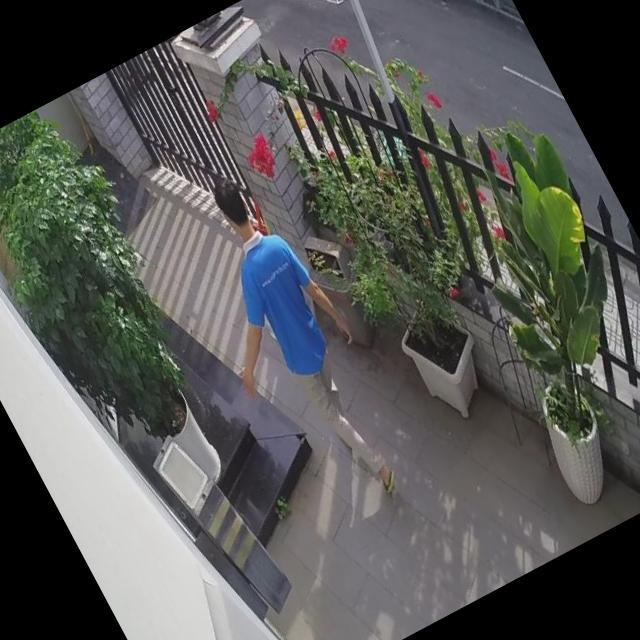person: (149, 153, 426, 532)
